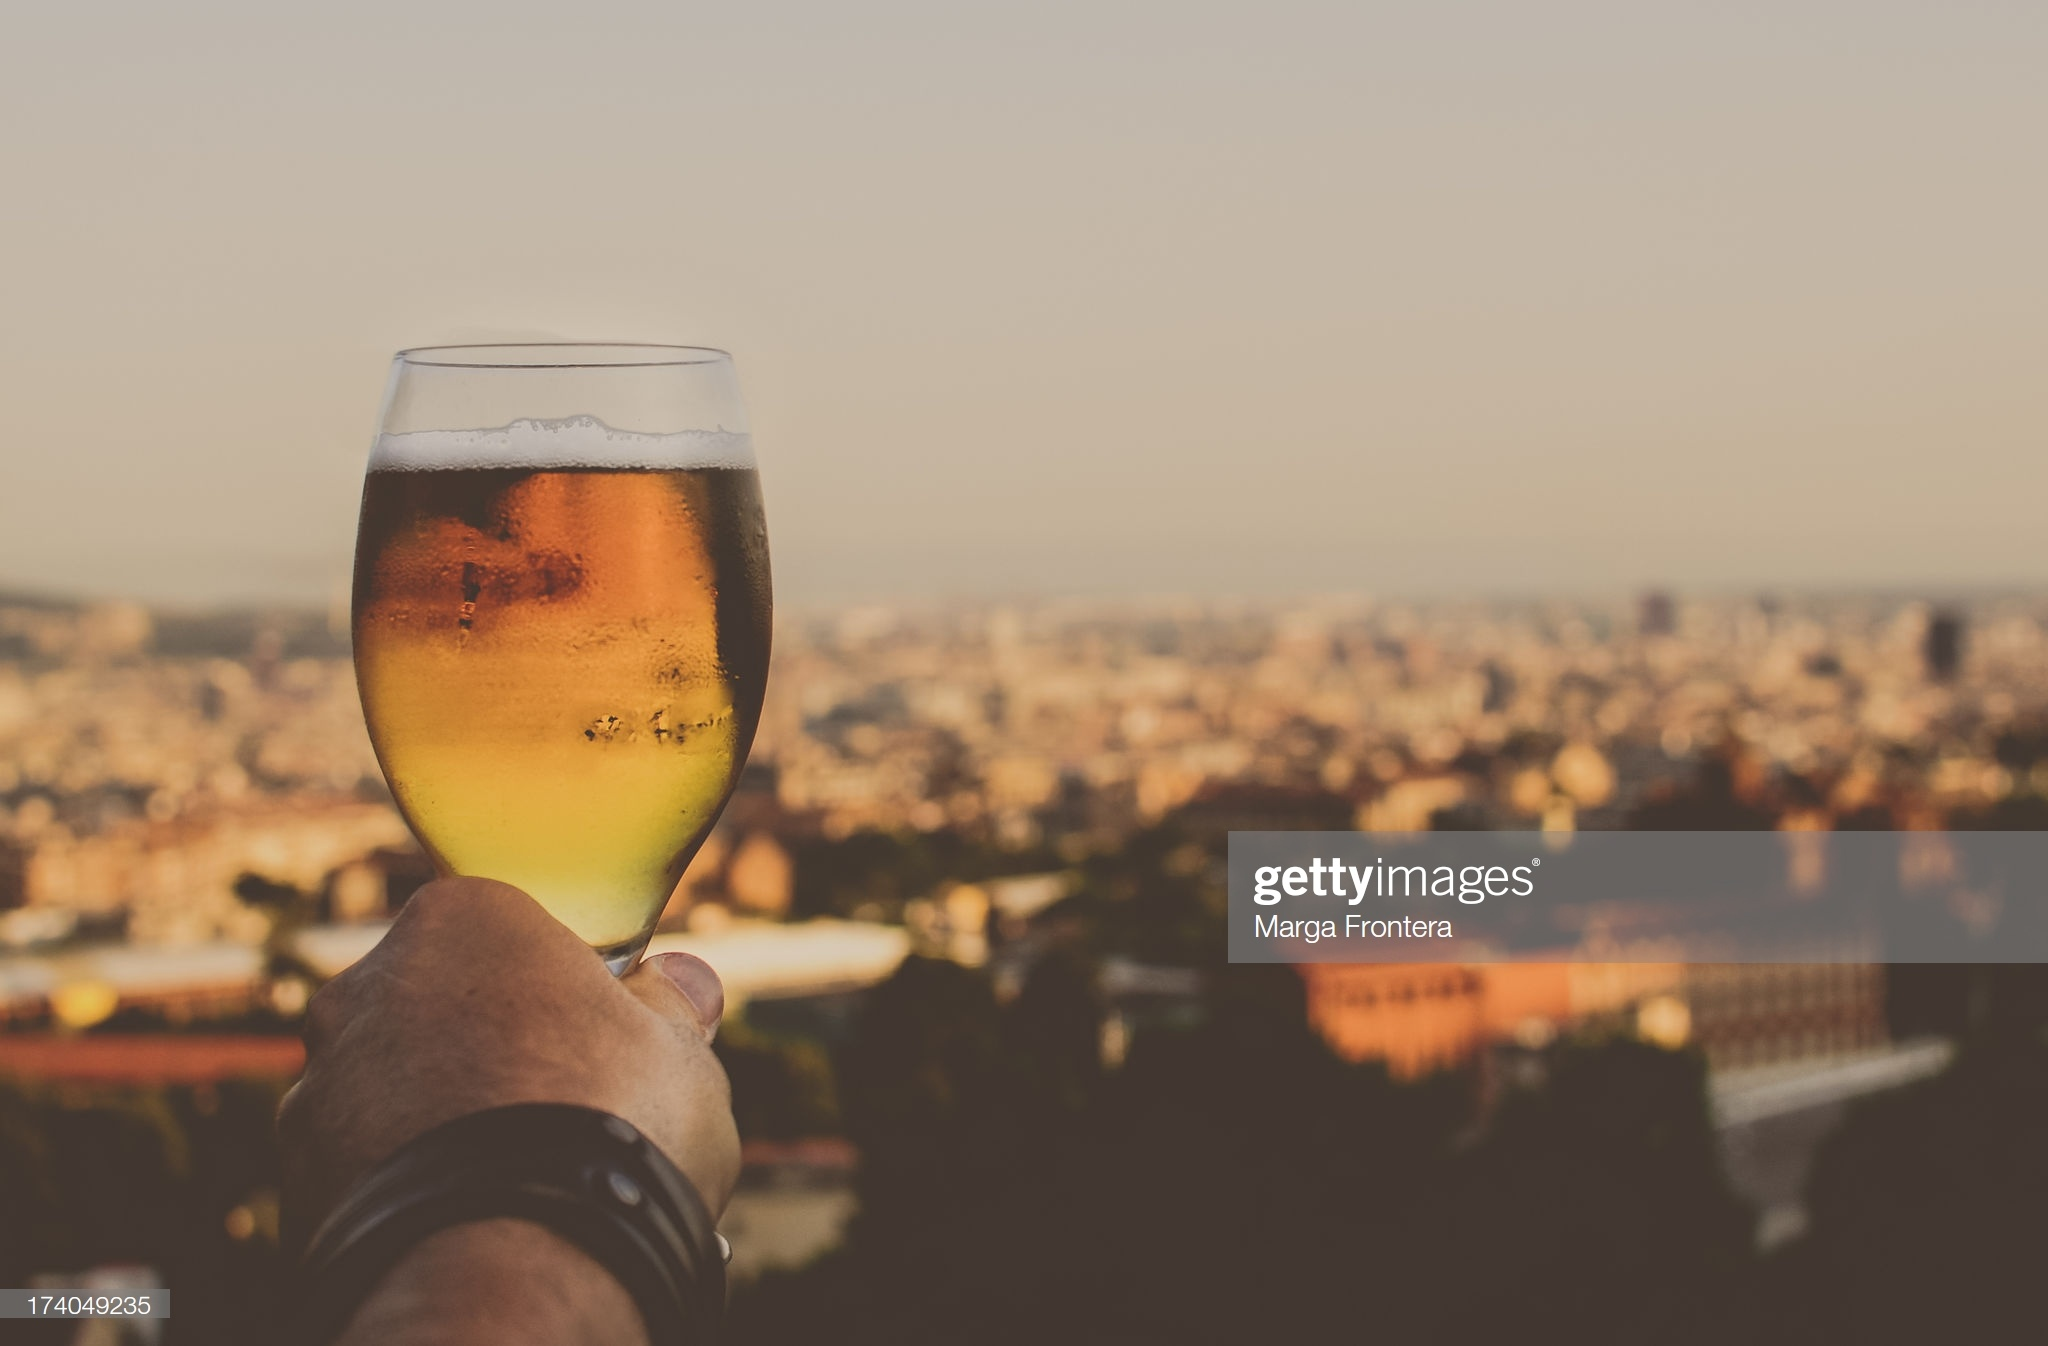glassBeer: (342, 318, 763, 985)
